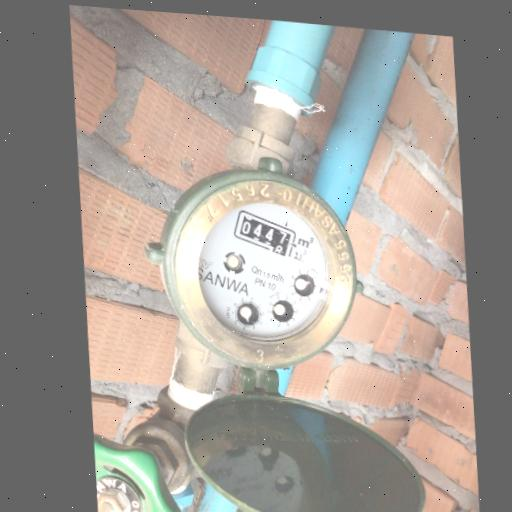0: (237, 214, 256, 239)
4: (248, 219, 267, 242), (259, 224, 278, 247)
7: (270, 228, 292, 257)
border_water_meter_number: (229, 208, 298, 260)
